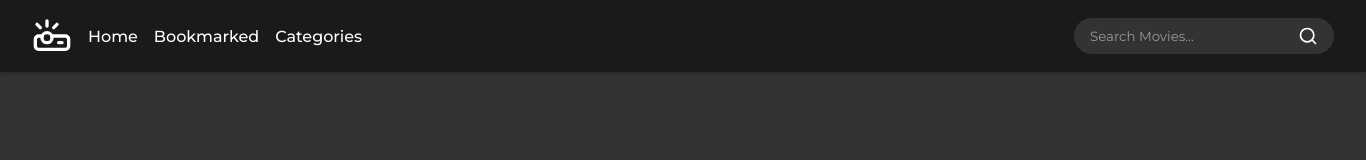
Test: Navbar Component - Desktop View › displays no movies found when there are no matches
Type "asdasd" into the search field labelled "Search Movies..." at (1190, 36), box [1090, 28, 1290, 44]
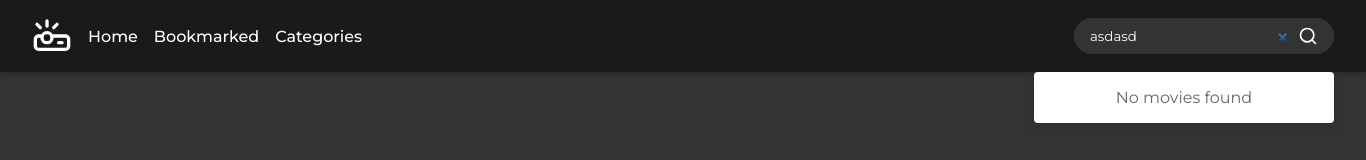
Check: the text "No movies found" is shown, box [1116, 88, 1252, 107]
